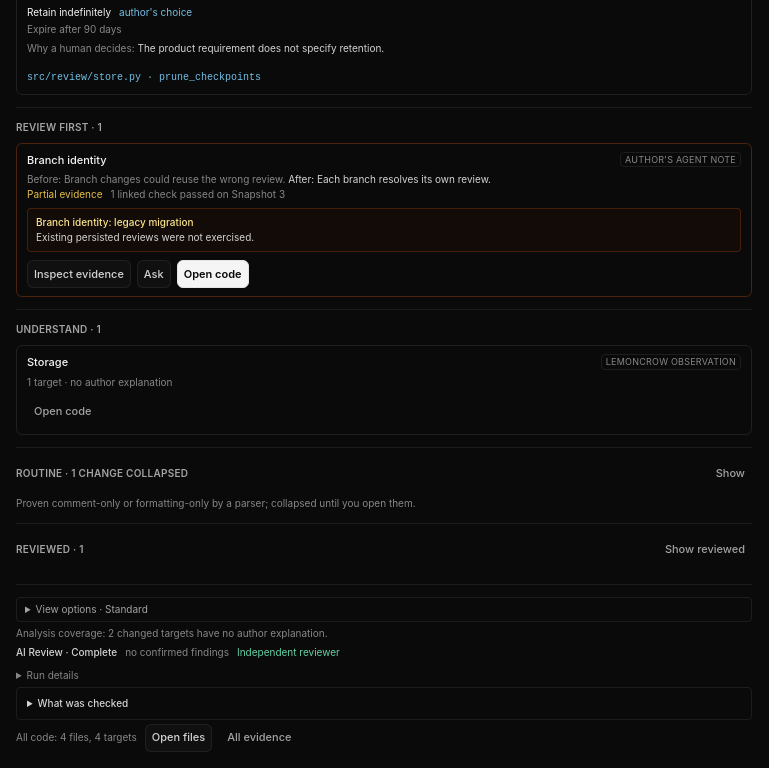
Test: ReviewBrief AI review › shows requested vs observed model and a satisfied independent-reviewer requirement
(page scrolled)
expect the text with test id "ai-independence-label" reads "Independent reviewer": met, box [237, 646, 340, 658]
What coordinates should you click on to do the following:
click the heading "Run details"
I would click on:
 (53, 674)
Its box is [27, 668, 79, 680].
(page scrolled)
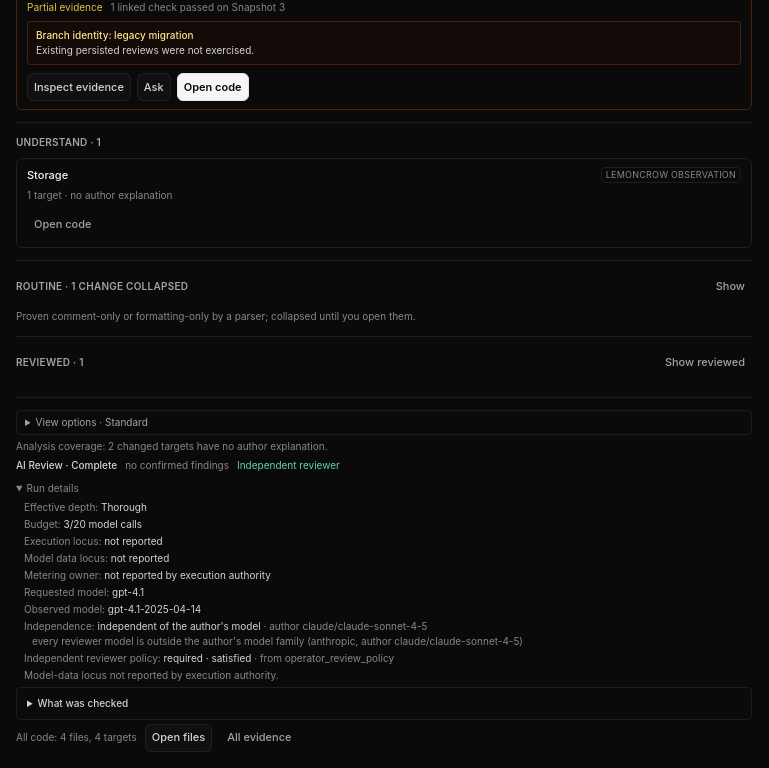
expect the element with test id "ai-requested-model" reads "Requested model: gpt-4.1": met, box [24, 586, 144, 598]
expect the element with test id "ai-observed-model" reads "Observed model: gpt-4.1-2025-04-14": met, box [24, 602, 201, 614]
expect the element with test id "ai-independence-policy" reads "Independent reviewer policy: required · satisfied · from operator_review_policy": met, box [24, 652, 394, 664]
